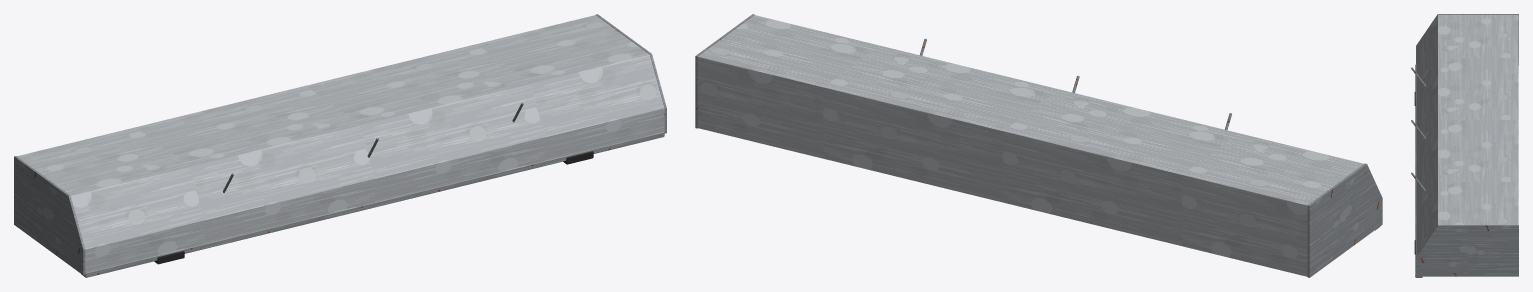
The model's file is range_hood.glb.
3 views of the same model, side by side, from view 1: azimuth 30°, elevation 25°; view 2: azimuth 150°, elevation 25°; view 3: azimuth 270°, elevation 25° (orthographic). The views are drawn at different scales.
Parts seen in each view (by area): view 1: p; view 2: p; view 3: p.
Boxes of the visible parts, left/top/right/bottom form: p: left=14, top=14, right=666, bottom=277; p: left=695, top=14, right=1382, bottom=277; p: left=1411, top=14, right=1518, bottom=277.
Size of the model in its own units: 3.42 by 0.422 by 0.7369.
Materials: 4 (4 with a texture image).
